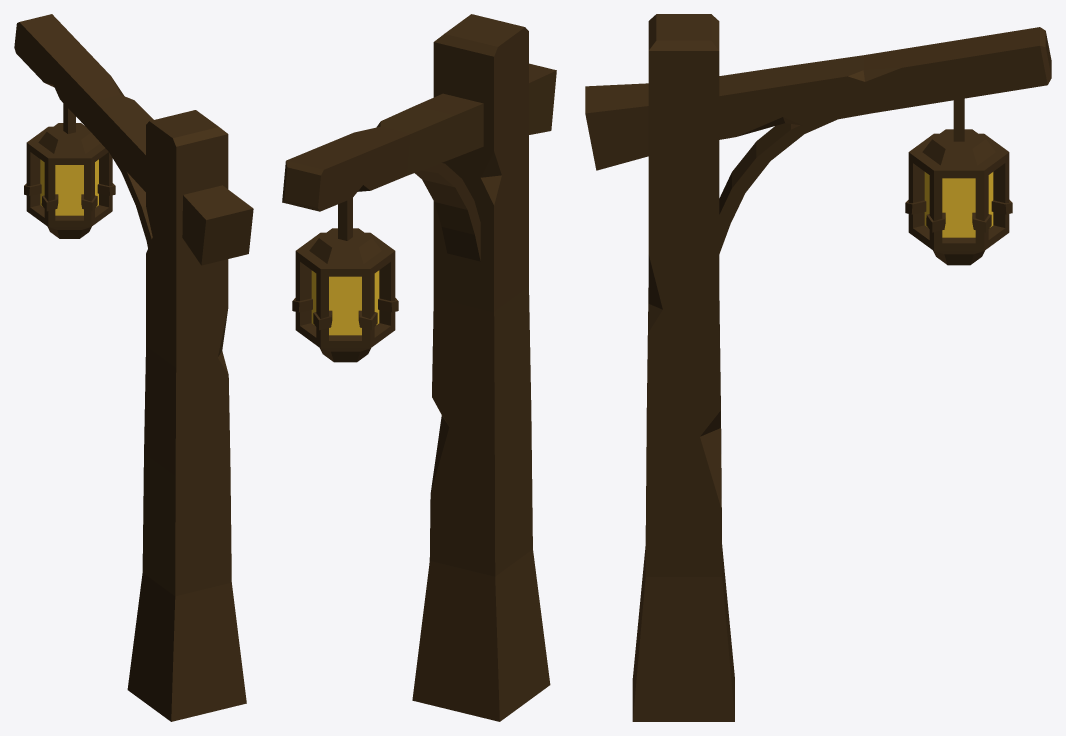
The model's file is lamp.fbx.
3 views of the same model, side by side, from view 1: azimuth 30°, elevation 25°; view 2: azimuth 150°, elevation 25°; view 3: azimuth 270°, elevation 25° (orthographic). The views are drawn at different scales.
Visible parts, largest first — view 1: Cylinder.012; view 2: Cylinder.012; view 3: Cylinder.012.
Boxes of the visible parts, left/top/right/bottom form: Cylinder.012: left=14, top=14, right=253, bottom=721; Cylinder.012: left=282, top=14, right=556, bottom=721; Cylinder.012: left=585, top=14, right=1051, bottom=721.
Size of the model in its own units: 2.9 by 20.99 by 13.21.
